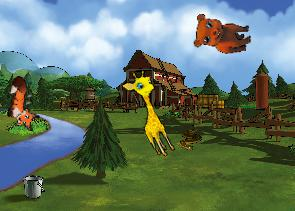bear: (192, 11, 252, 54)
fox: (2, 75, 46, 132)
giraffe: (118, 66, 186, 160)
